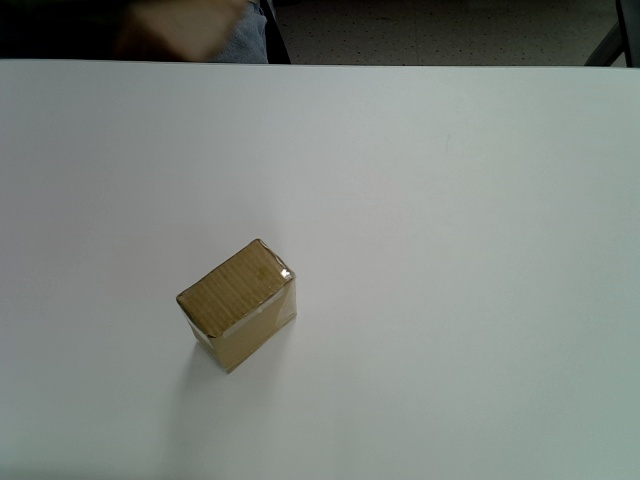normal: (175, 238, 297, 375)
